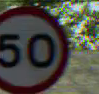Speed limit: (1, 4, 73, 91)
